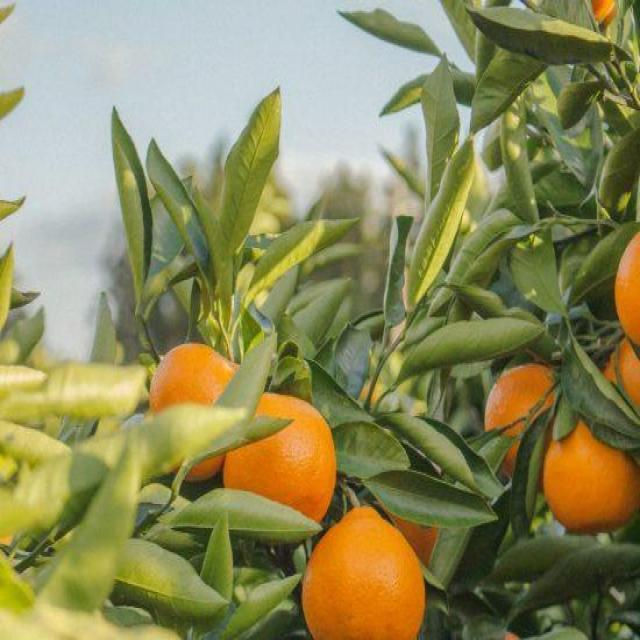Jeruk Sudah Matang: (302, 504, 426, 638), (148, 341, 257, 485), (224, 392, 338, 522), (541, 406, 640, 531), (483, 362, 574, 494), (596, 337, 640, 449), (612, 230, 640, 350), (577, 0, 622, 24)
